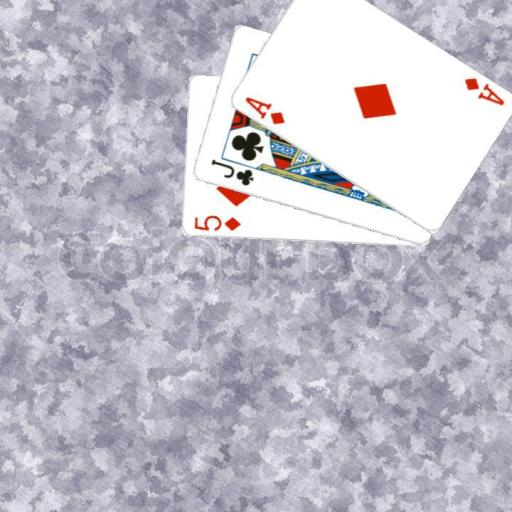5D: (191, 212, 242, 233)
AD: (241, 93, 286, 127), (461, 74, 506, 107)
JC: (207, 156, 255, 188)
